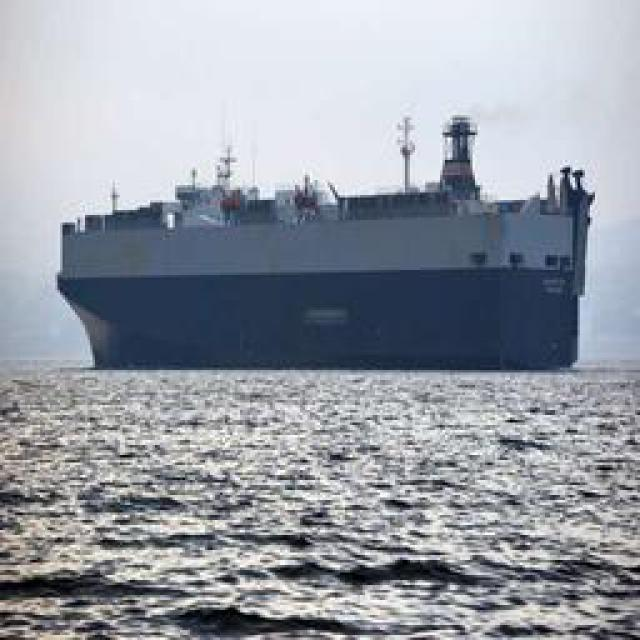Ship: (54, 116, 607, 359)
